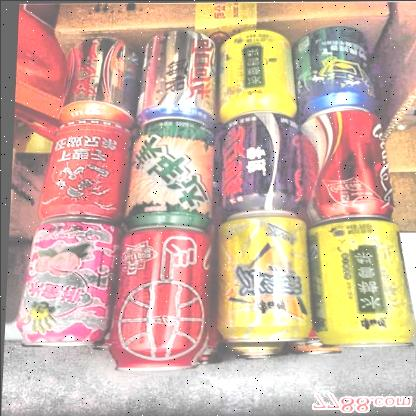Can: (300, 216, 416, 352), (107, 233, 215, 375), (13, 222, 126, 352), (209, 216, 314, 346), (295, 108, 399, 232), (119, 117, 215, 233), (31, 120, 127, 234), (212, 115, 304, 232), (132, 28, 214, 126), (214, 28, 295, 124), (53, 35, 136, 128), (288, 28, 374, 115), (229, 347, 287, 370), (288, 340, 346, 360)
